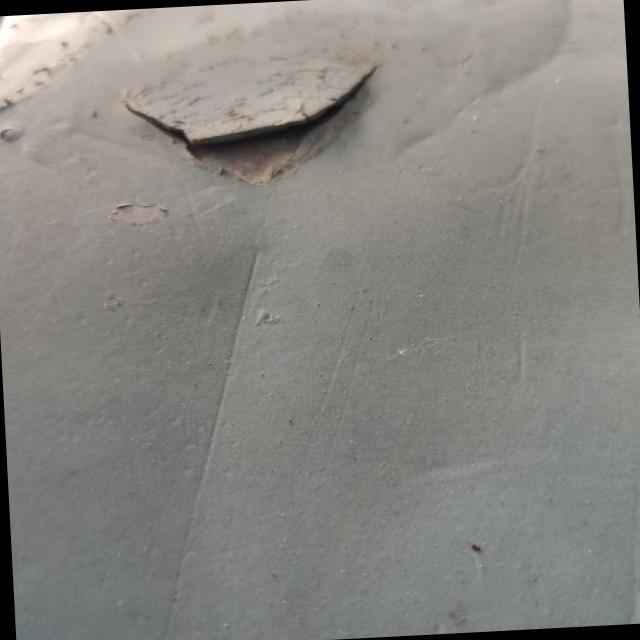Rupture: (107, 32, 399, 209)
